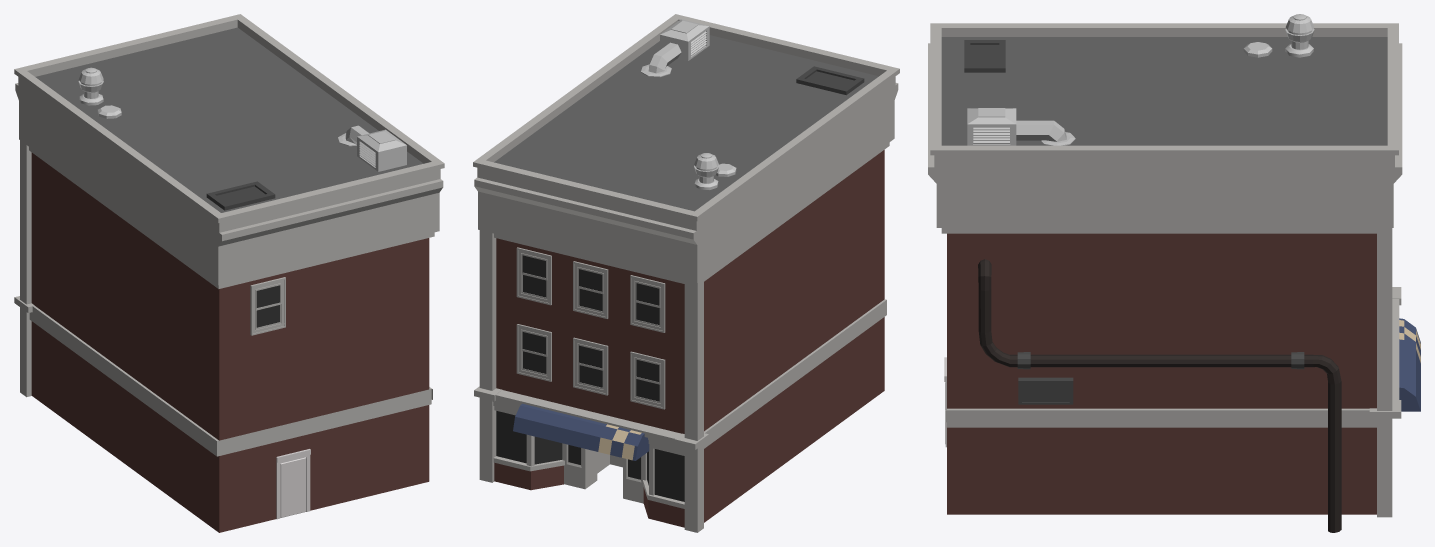
File: store1.fbx
3 renders of one model, left to right at view 1: azimuth 30°, elevation 25°; view 2: azimuth 150°, elevation 25°; view 3: azimuth 270°, elevation 25°, orthographic. The views are drawn at different scales.
Visible parts, largest first — view 1: store, pCube1106, pCube1096, pCube1117, roofthing3, door_plain2, roofthing2, windowframe_plain18; view 2: store, pCube1106, pCube1102, awningblue, doorframe, roofthing3, pCube1117, windowframe_plain14, windowframe_plain17, windowframe_plain15, windowframe_plain16, windowframe_plain13 (+3 smaller); view 3: store, pCylinder12, pCube1102, awningblue, pCube1130, pCube1117, roofthing3, roofthing2, pCylinder11.
Part boxes in pixels (bbox=[...]): store: bbox=[14, 14, 444, 532]; pCube1106: bbox=[14, 140, 34, 397]; pCube1096: bbox=[280, 457, 306, 517]; pCube1117: bbox=[357, 129, 406, 171]; roofthing3: bbox=[206, 181, 275, 210]; door_plain2: bbox=[276, 449, 310, 519]; roofthing2: bbox=[78, 67, 103, 105]; windowframe_plain18: bbox=[250, 277, 285, 335]; store: bbox=[473, 14, 899, 527]; pCube1106: bbox=[674, 278, 708, 532]; pCube1102: bbox=[474, 230, 502, 482]; awningblue: bbox=[513, 403, 649, 460]; doorframe: bbox=[562, 443, 646, 503]; roofthing3: bbox=[796, 66, 864, 95]; pCube1117: bbox=[660, 19, 709, 60]; windowframe_plain14: bbox=[516, 247, 551, 305]; windowframe_plain17: bbox=[516, 324, 551, 381]; windowframe_plain15: bbox=[630, 351, 665, 409]; windowframe_plain16: bbox=[573, 337, 608, 395]; windowframe_plain13: bbox=[573, 261, 608, 318]; store: bbox=[928, 23, 1402, 514]; pCylinder12: bbox=[978, 259, 1341, 532]; pCube1102: bbox=[1369, 228, 1401, 517]; awningblue: bbox=[1399, 318, 1420, 411]; pCube1130: bbox=[1018, 377, 1073, 404]; pCube1117: bbox=[967, 108, 1016, 145]; roofthing3: bbox=[964, 40, 1005, 72]; roofthing2: bbox=[1285, 14, 1314, 57]; pCylinder11: bbox=[1016, 120, 1066, 141].
Bounding box in the file's own units: 11.88 × 17.29 × 18.95.
